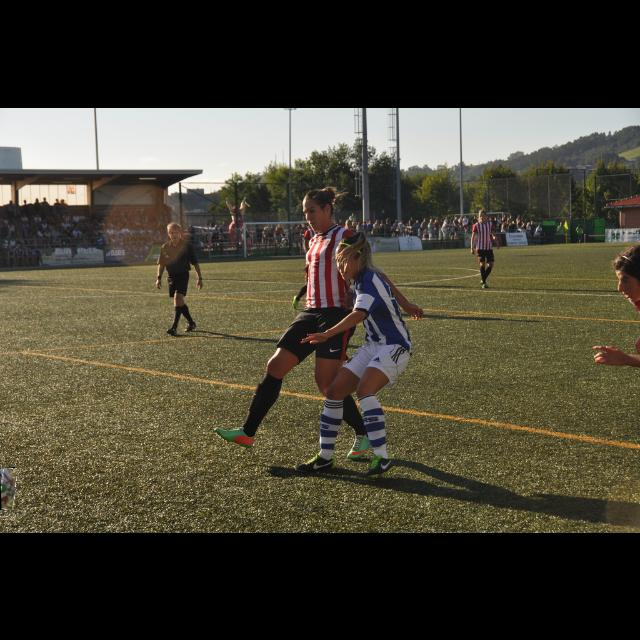Football: (0, 467, 15, 510)
